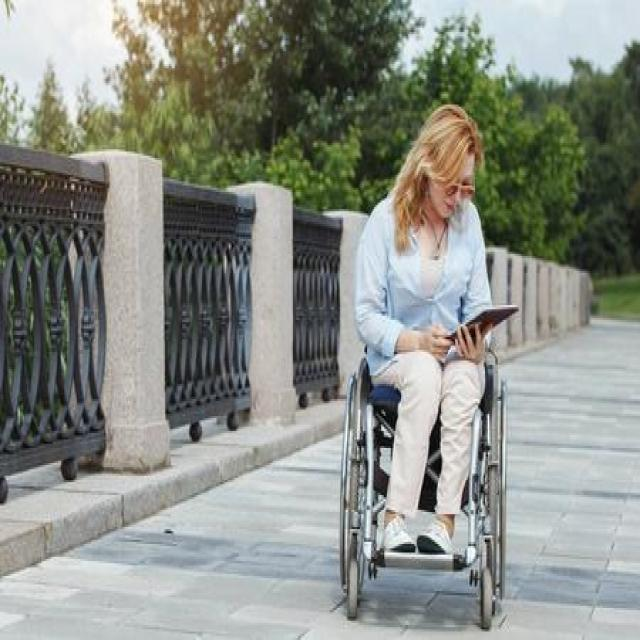wheelchairs: (333, 320, 517, 635)
